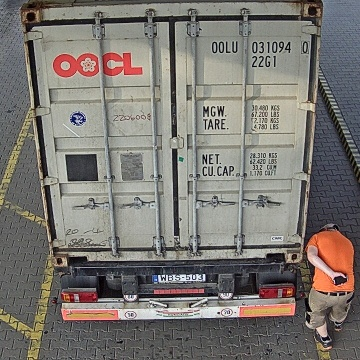serial_id: (212, 41, 309, 53)
